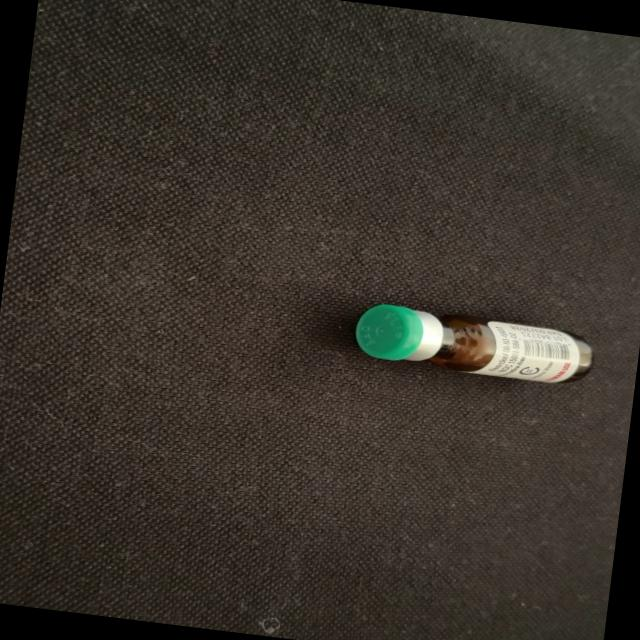midazolm: (354, 302, 592, 388)
